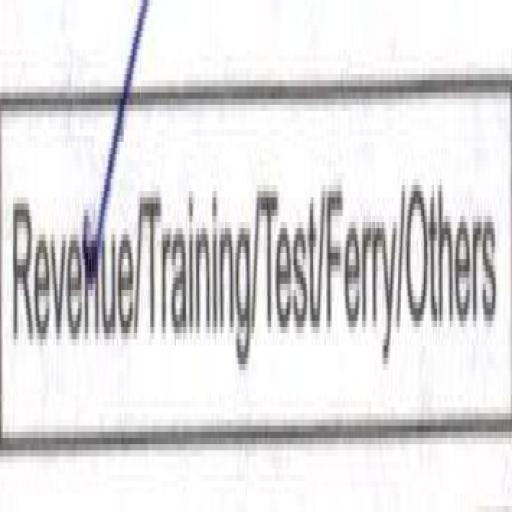check: (2, 37, 136, 458)
